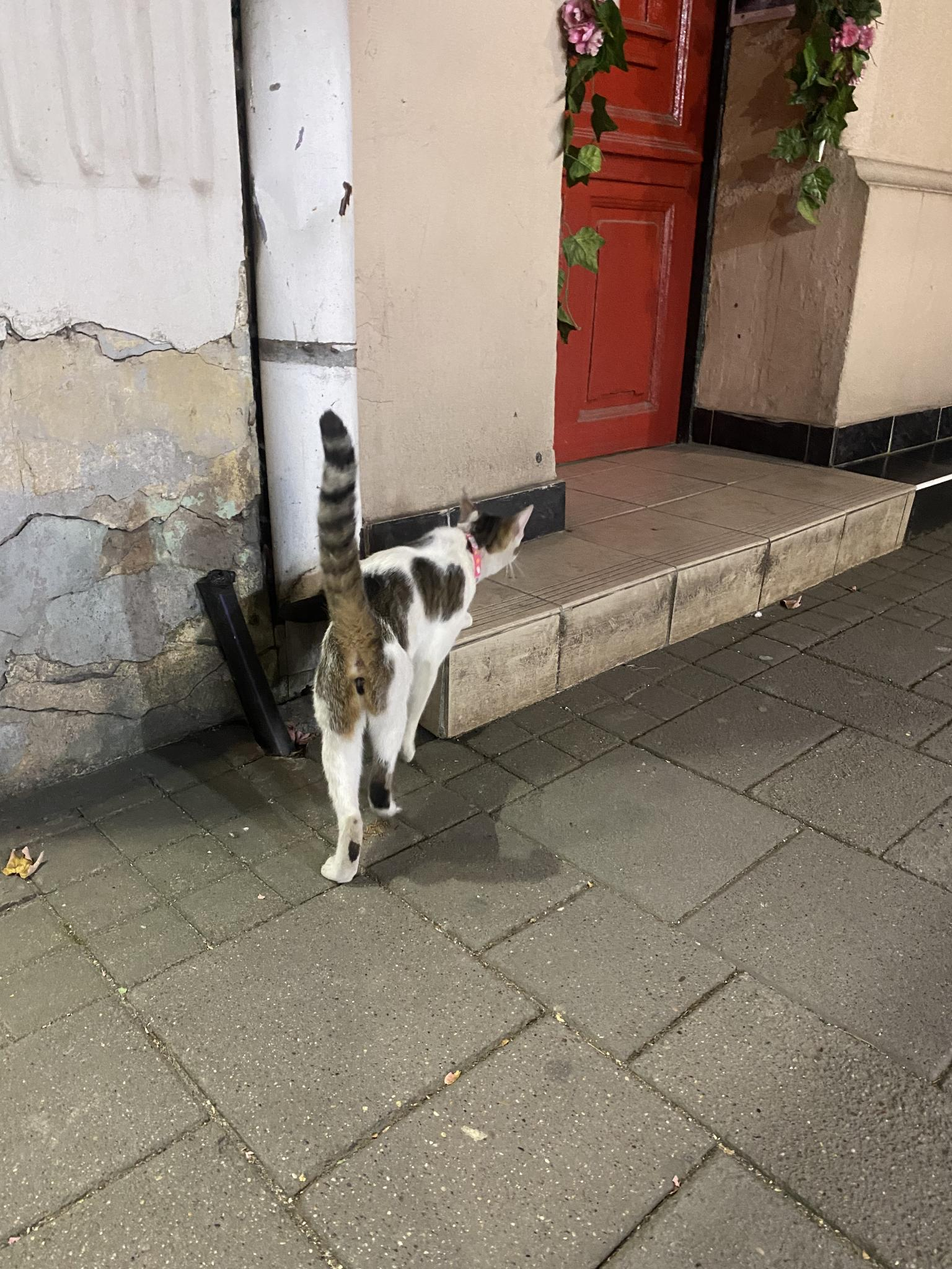macka: (313, 410, 535, 886)
